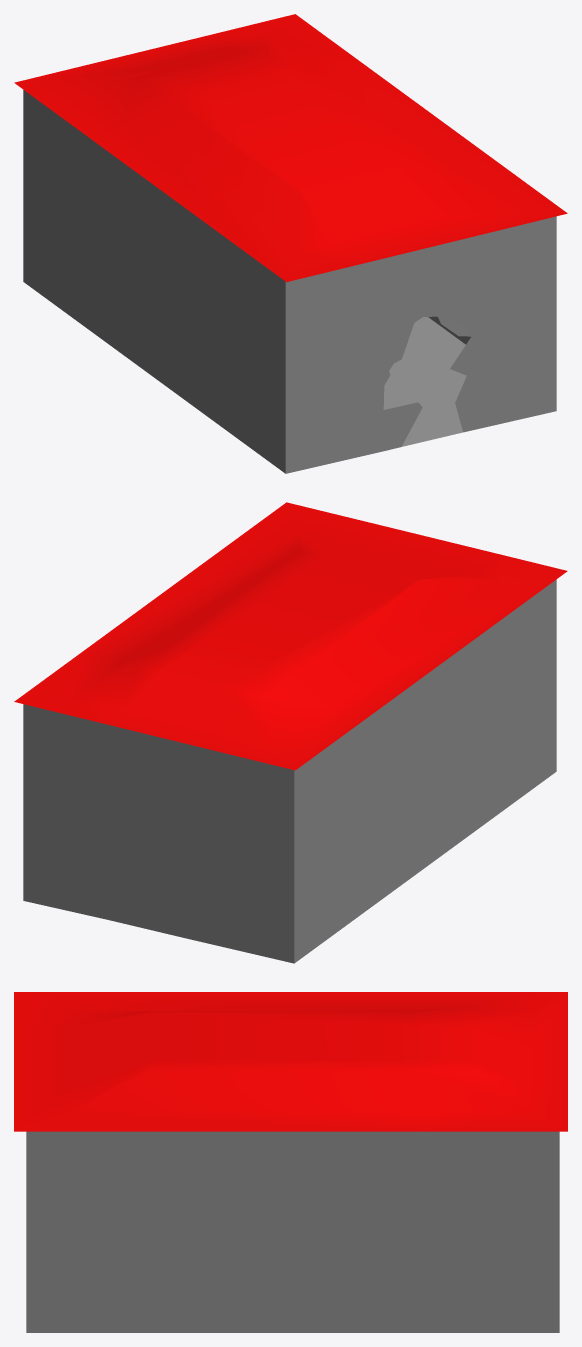
The model's file is RoomTomb.FBX.
3 views of the same model, one above another, from view 1: azimuth 30°, elevation 25°; view 2: azimuth 150°, elevation 25°; view 3: azimuth 270°, elevation 25° (orthographic).
Visible parts, largest first — view 1: RoomTomb; view 2: RoomTomb; view 3: RoomTomb.
Boxes of the visible parts, bbox=[...] form: RoomTomb: bbox=[14, 14, 567, 473]; RoomTomb: bbox=[14, 502, 567, 963]; RoomTomb: bbox=[14, 992, 567, 1332].
Size of the model in its own units: 773 by 580 by 1298.
